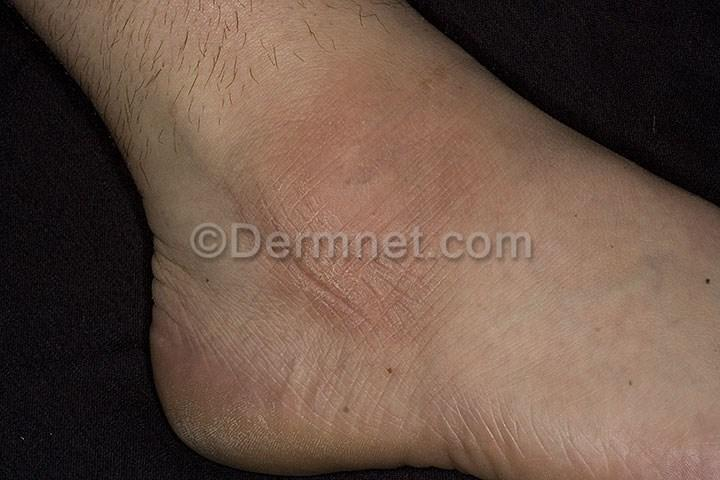Eczema: (220, 63, 401, 223), (151, 301, 288, 438), (411, 66, 501, 229), (322, 266, 439, 375)
